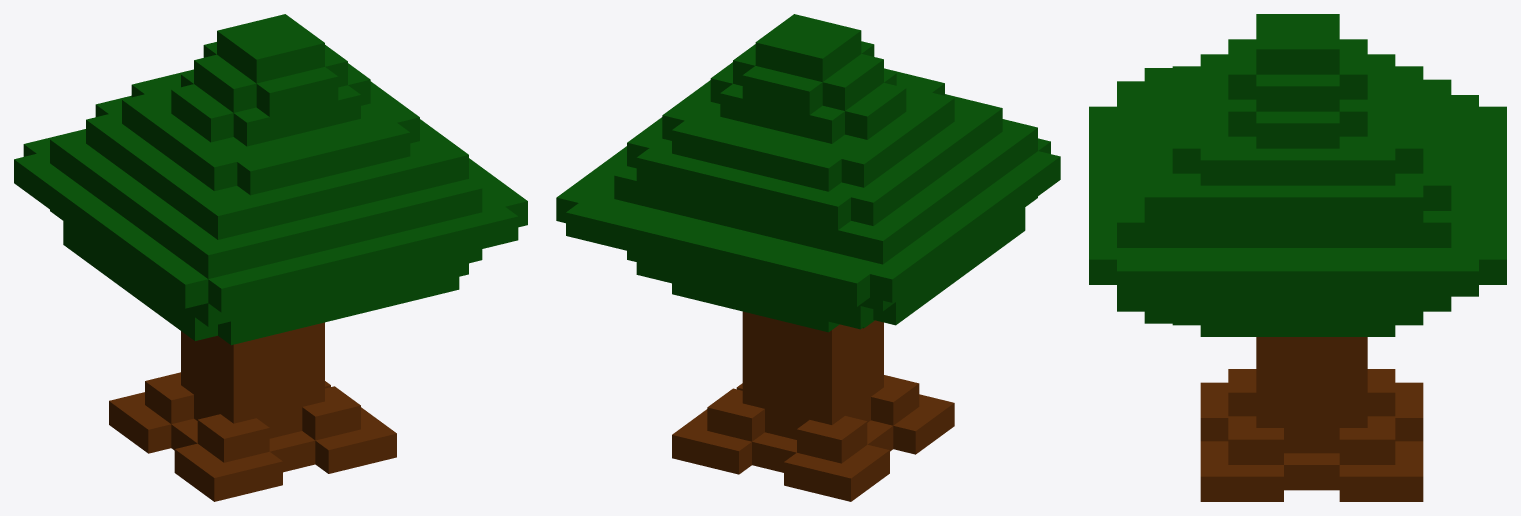
The model's file is Tree.fbx.
3 views of the same model, side by side, from view 1: azimuth 30°, elevation 25°; view 2: azimuth 150°, elevation 25°; view 3: azimuth 270°, elevation 25° (orthographic). The views are drawn at different scales.
Visible parts, largest first — view 1: Tree; view 2: Tree; view 3: Tree.
Part boxes in pixels (box(x1,y1,x2,y2)): Tree: box(14, 14, 527, 501); Tree: box(556, 14, 1060, 501); Tree: box(1089, 14, 1506, 501).
Bounding box in the file's own units: 150 × 170 × 150.
1 material, 1 textured.
